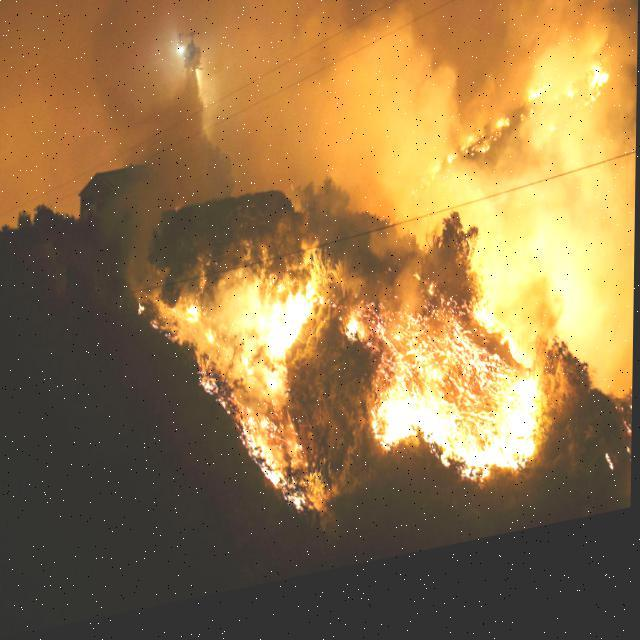Fire: (150, 208, 551, 564), (448, 70, 615, 190)
